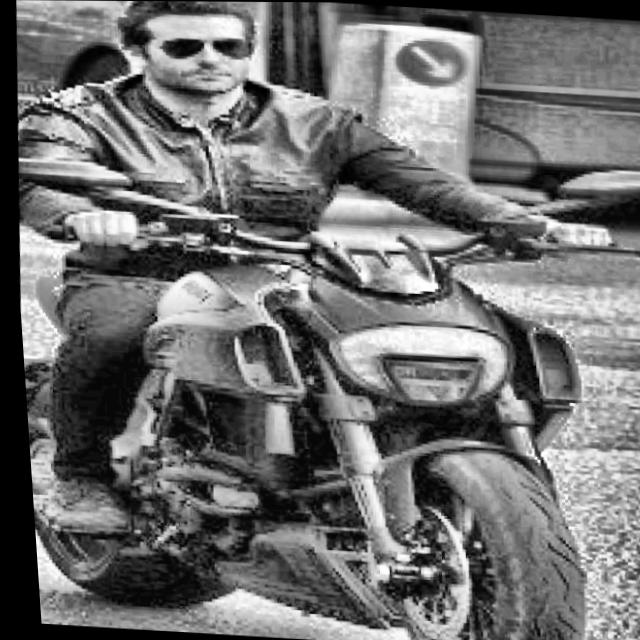motorcycle: (7, 141, 640, 640)
